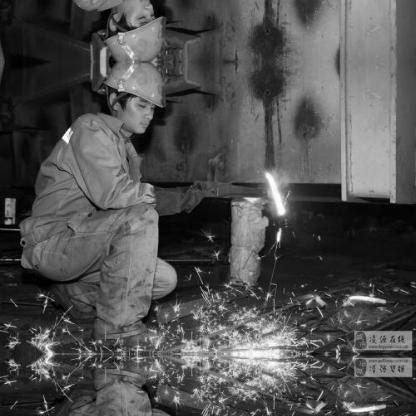vest: (17, 62, 225, 353), (17, 0, 226, 61), (17, 354, 226, 415)
